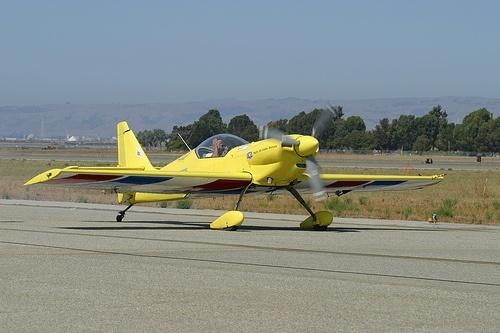aeroplane: (21, 119, 449, 232)
